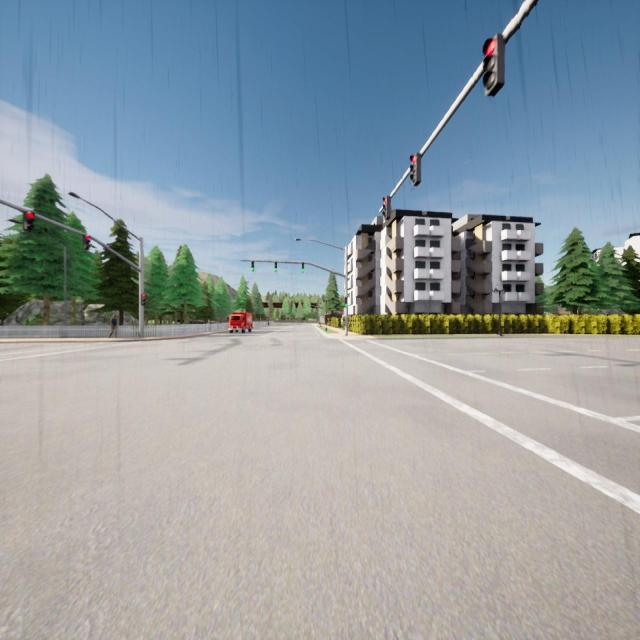Pedestrian: (109, 314, 117, 338)
Vehicle: (228, 311, 252, 333)
traffic_light: (482, 33, 504, 96), (410, 153, 421, 186), (23, 211, 34, 231), (382, 196, 390, 220), (84, 235, 90, 250), (142, 294, 146, 306), (344, 298, 348, 307), (252, 261, 254, 272), (275, 262, 277, 272), (302, 262, 304, 272)
